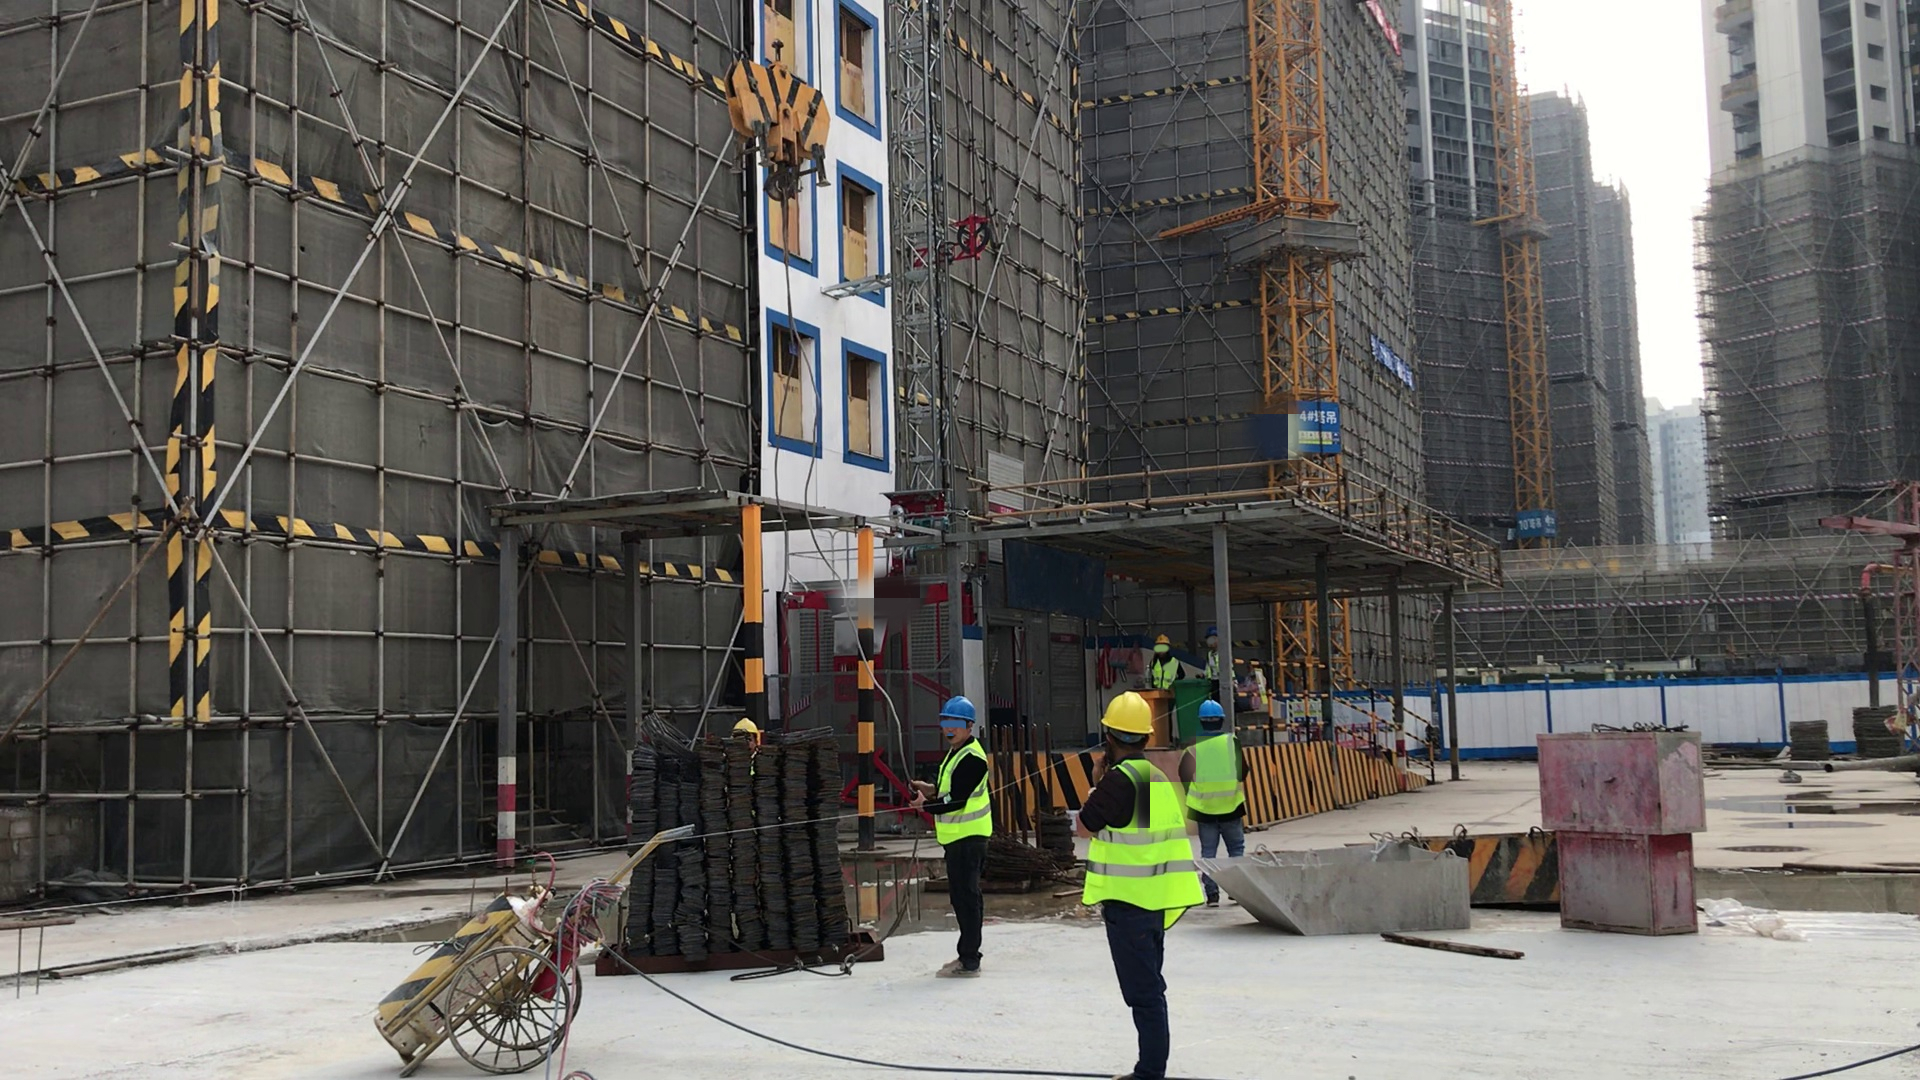fence: (1246, 636, 1465, 771)
handcart: (353, 787, 764, 1080)
helmet: (1101, 691, 1157, 740), (937, 693, 983, 722), (1199, 697, 1228, 725), (1156, 631, 1175, 647)
hook: (717, 45, 841, 207)
hopper: (1213, 829, 1474, 941), (1429, 811, 1563, 915)
person: (1079, 690, 1209, 1080), (922, 686, 1010, 990), (1179, 700, 1255, 918), (1148, 630, 1181, 727), (1204, 629, 1228, 706)
slogan: (1309, 316, 1421, 402)
vest: (1088, 759, 1209, 925), (936, 744, 996, 847), (1187, 732, 1251, 820), (1204, 652, 1239, 695), (1151, 654, 1184, 697)
